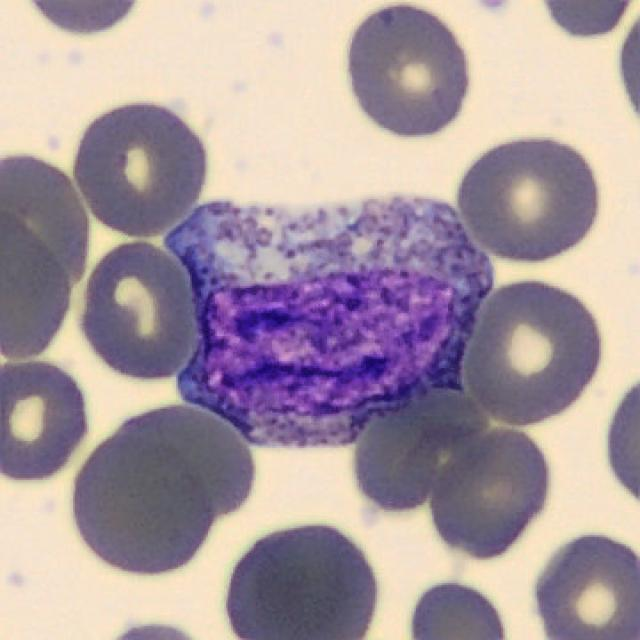Linfocito atipico: (167, 197, 494, 448)
